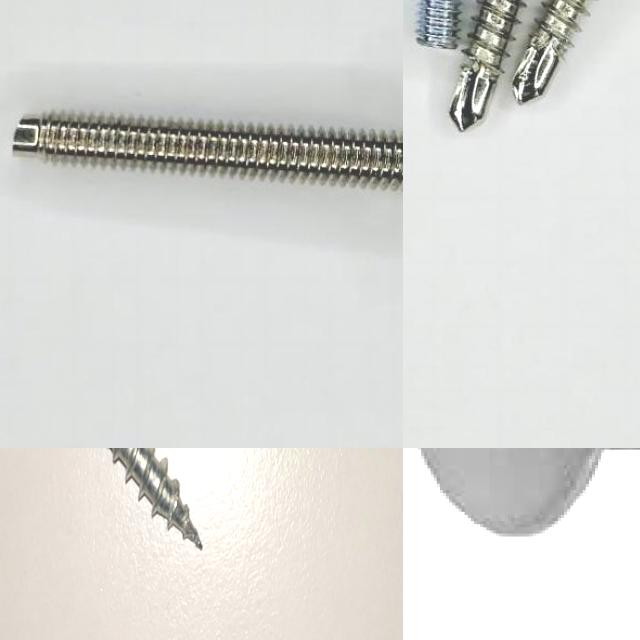Screw: (14, 113, 403, 188), (415, 448, 640, 540), (450, 0, 523, 131), (110, 448, 202, 549), (514, 0, 591, 103), (416, 0, 460, 49)
